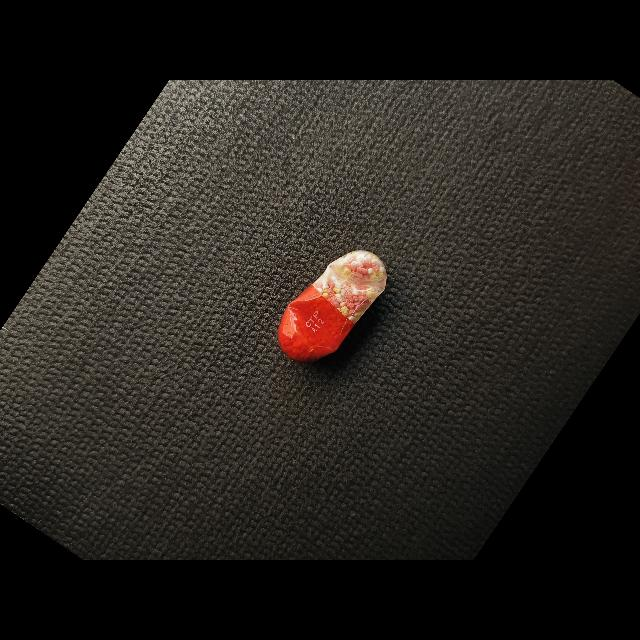Defective Capsule: (278, 250, 387, 362)
